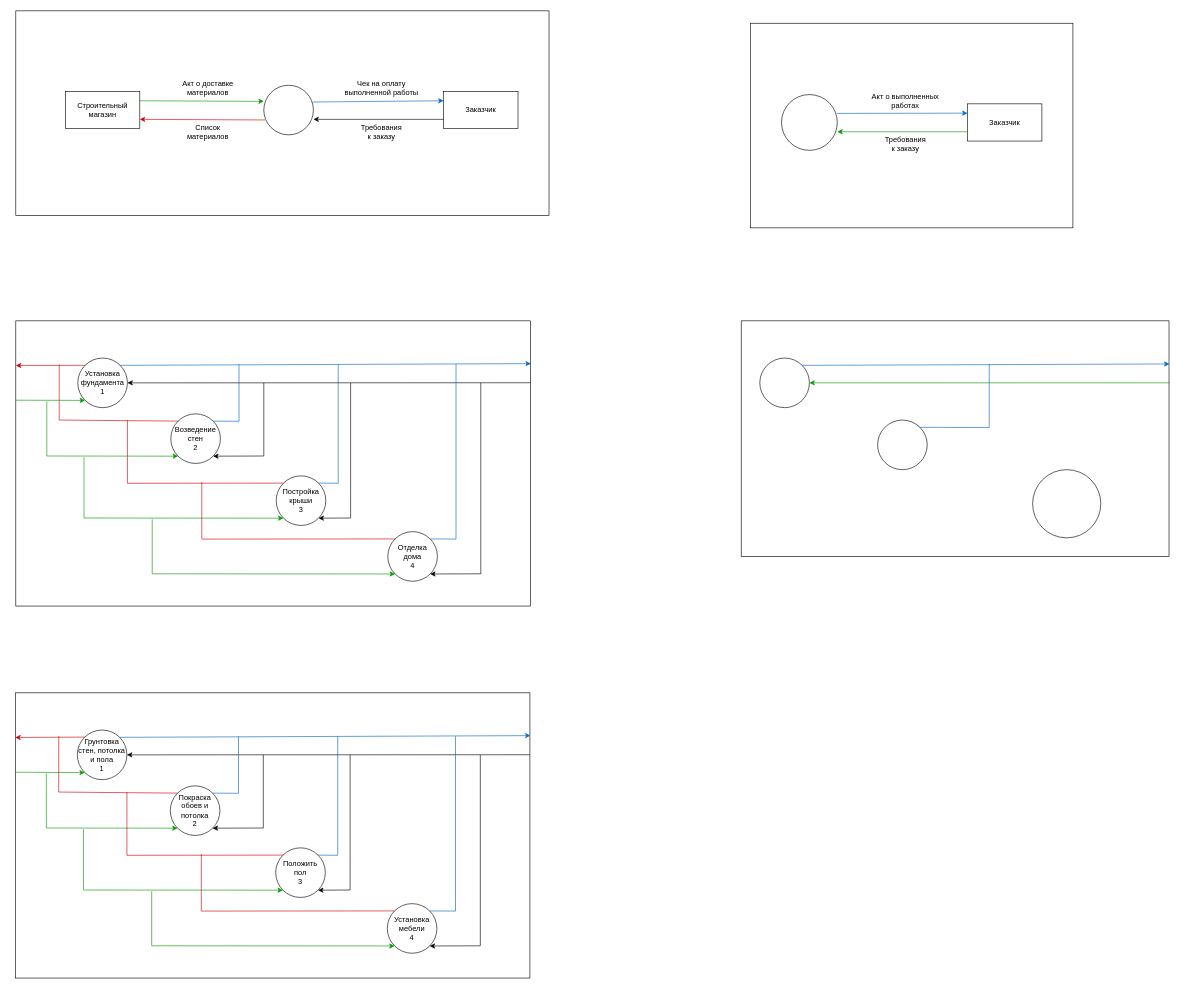
The diagram is 1186 pixels wide and 989 high, and some of its shapes have lost their labels. The shapes that lost their labels are listed below. From the top down, each one's box as (x1, y1, x2, y2) in pixels, then its label:
(263, 85, 313, 135): Построить дом
(781, 94, 837, 150): Организовать выполнение проектных работ
(759, 357, 809, 408): Принять заказ 1
(877, 419, 927, 470): Провести проектные работы 2
(1032, 469, 1101, 538): Получить экспертное заключение по проектным работам 3
